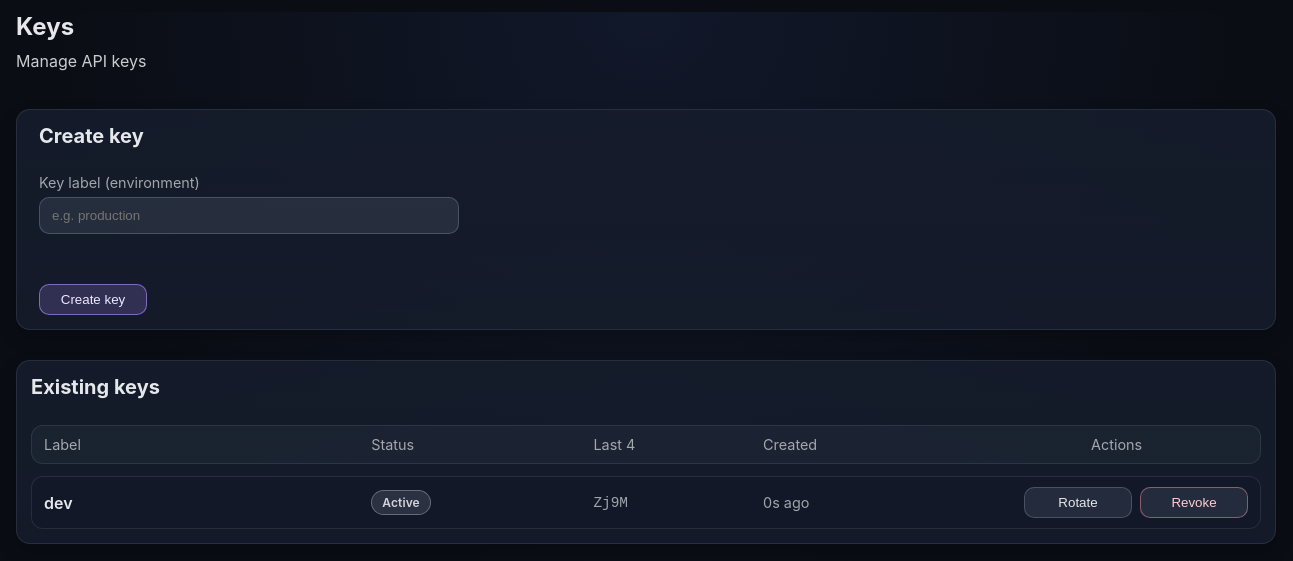
Test: Keys page › shows validation errors for empty key labels
Expected: the heading "Existing keys" is shown, [31,375,160,399]
Click the button "Create key". click: (93,300)
box: [39,284,147,315]
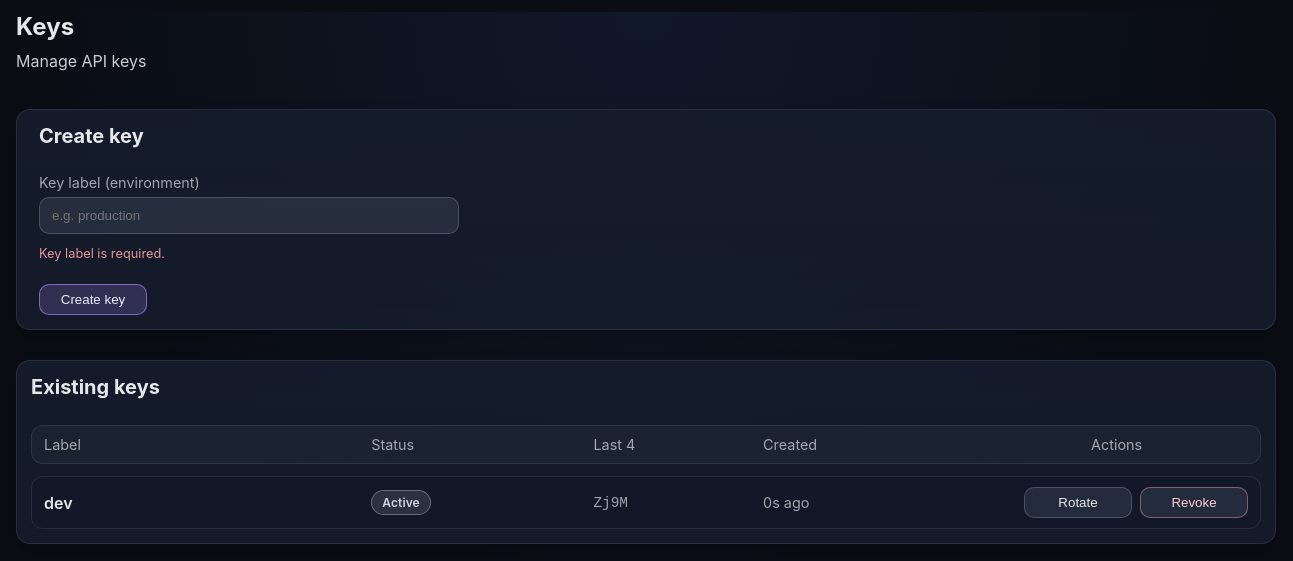
Expected: the text "Key label is required." is shown, [39,246,165,261]
